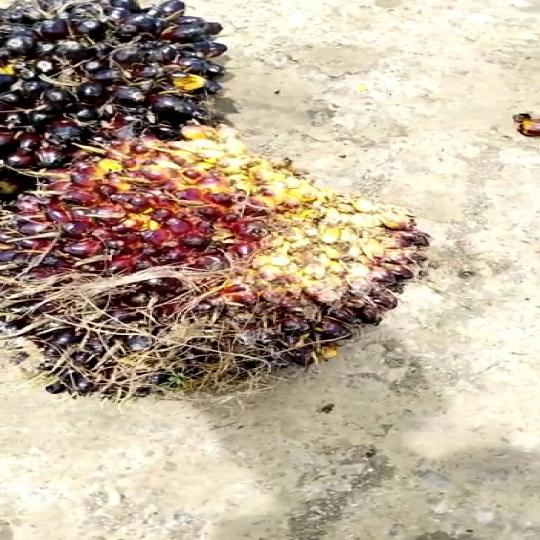mentah: (7, 131, 453, 434)
